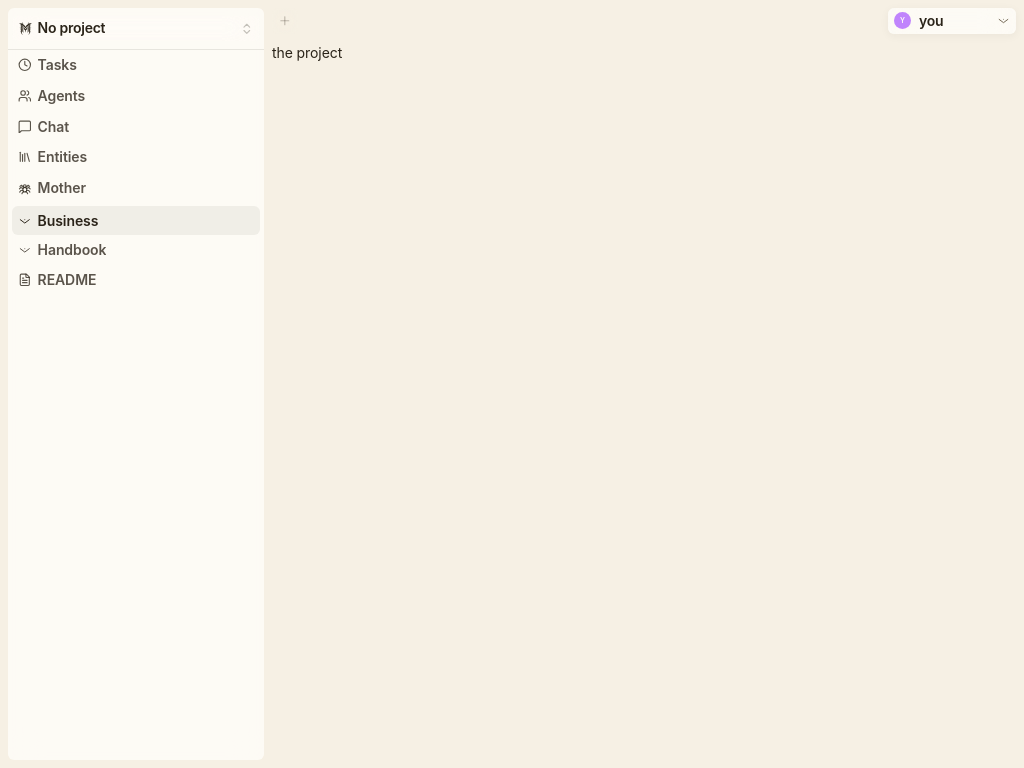
lets the project picker be dismissed even with nothing to open
Expected: the text "the project" is shown, [272,44,342,61]
Click the button "No project": x=136, y=28 [12,16,260,41]
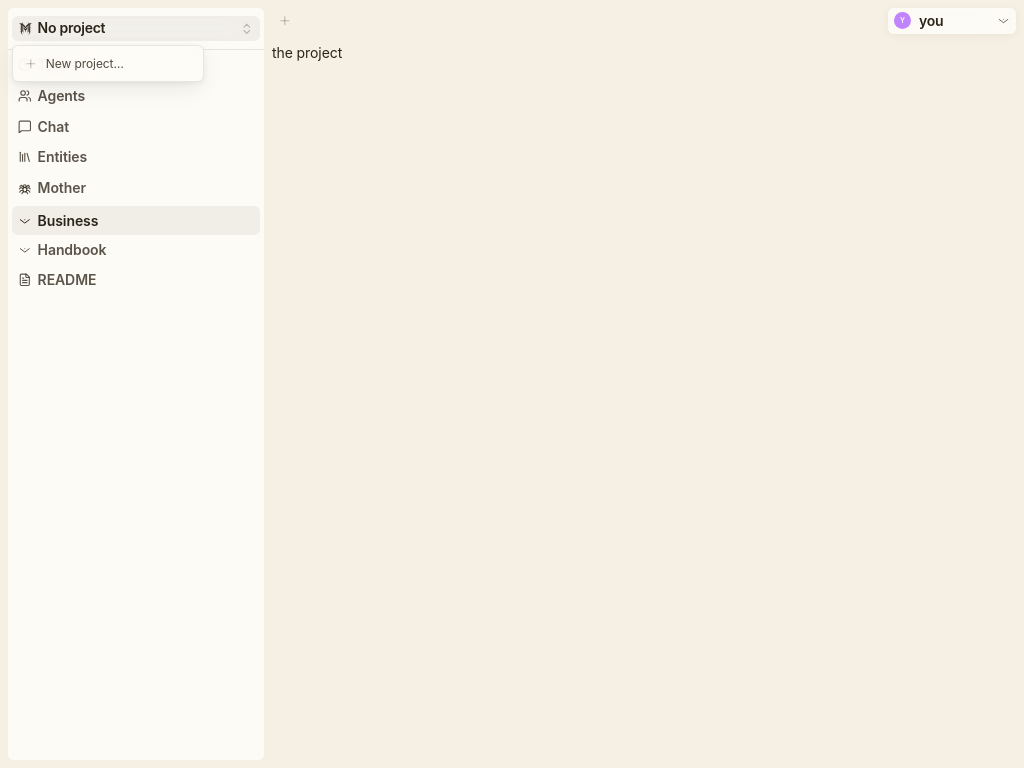
Click the menu item "New project…": x=74, y=63 [24,56,124,71]
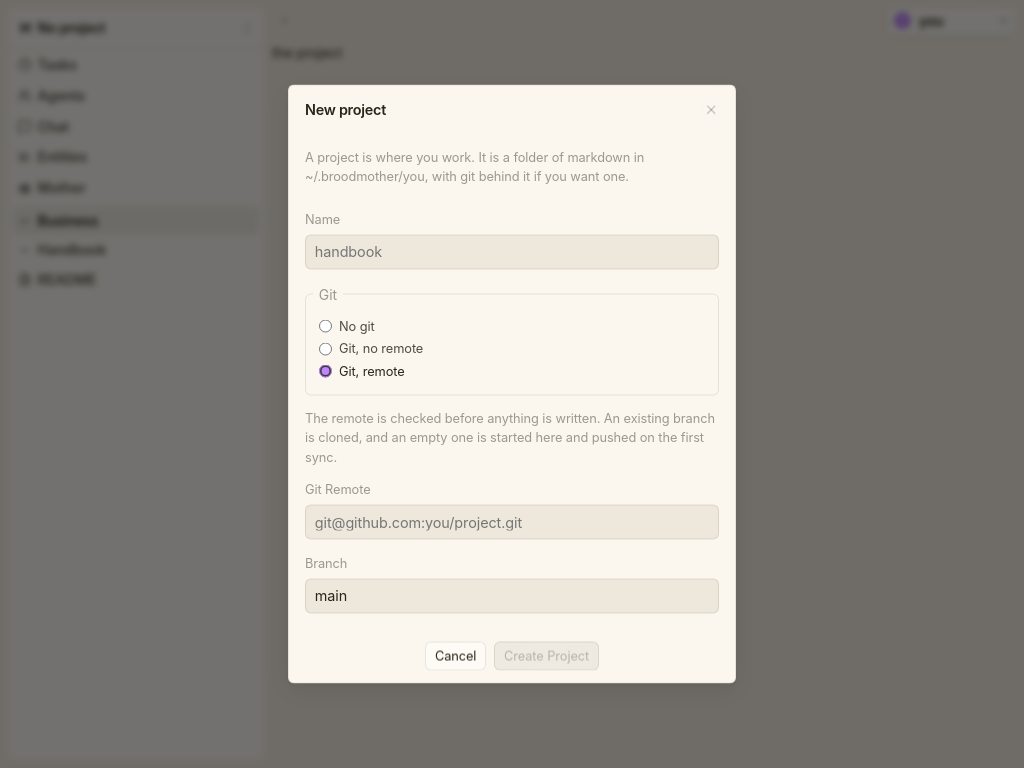
Now the dialog "New project" is shown, box [288,84,736,684]
Click the button "Cancel": x=456, y=656 [425,642,486,670]
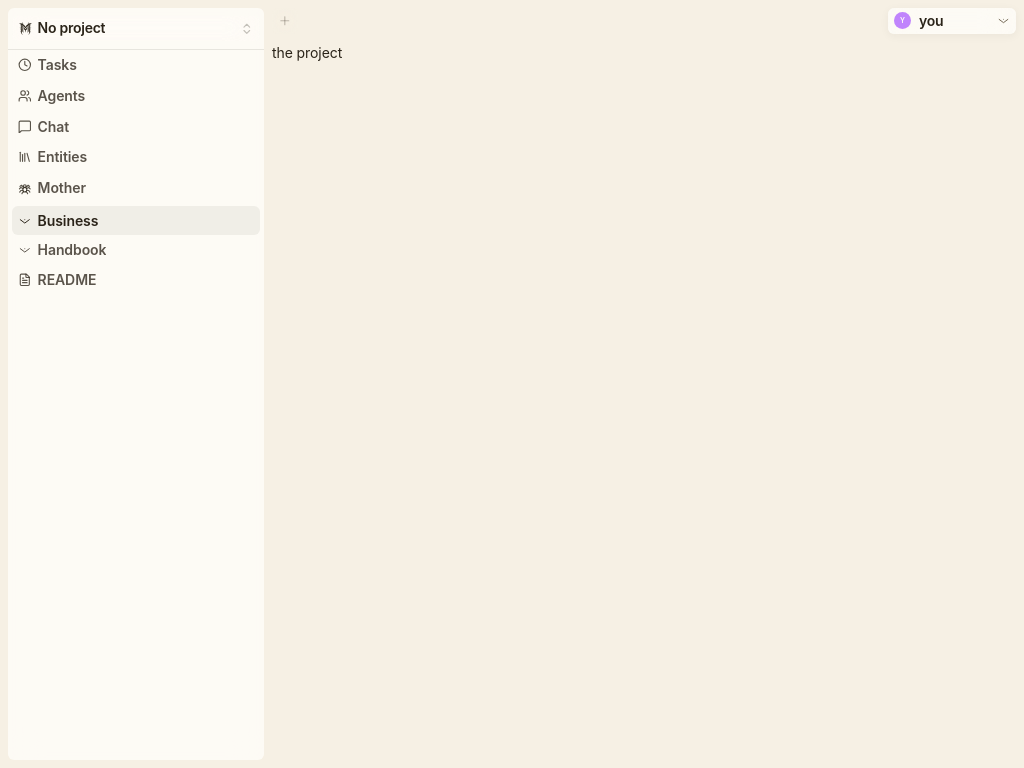
Now the dialog is gone
